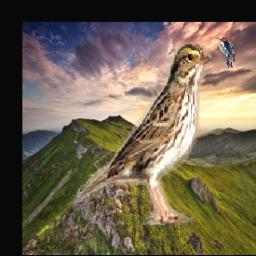Sparrow: (74, 43, 211, 226)
Woodpecker: (216, 37, 236, 69)
